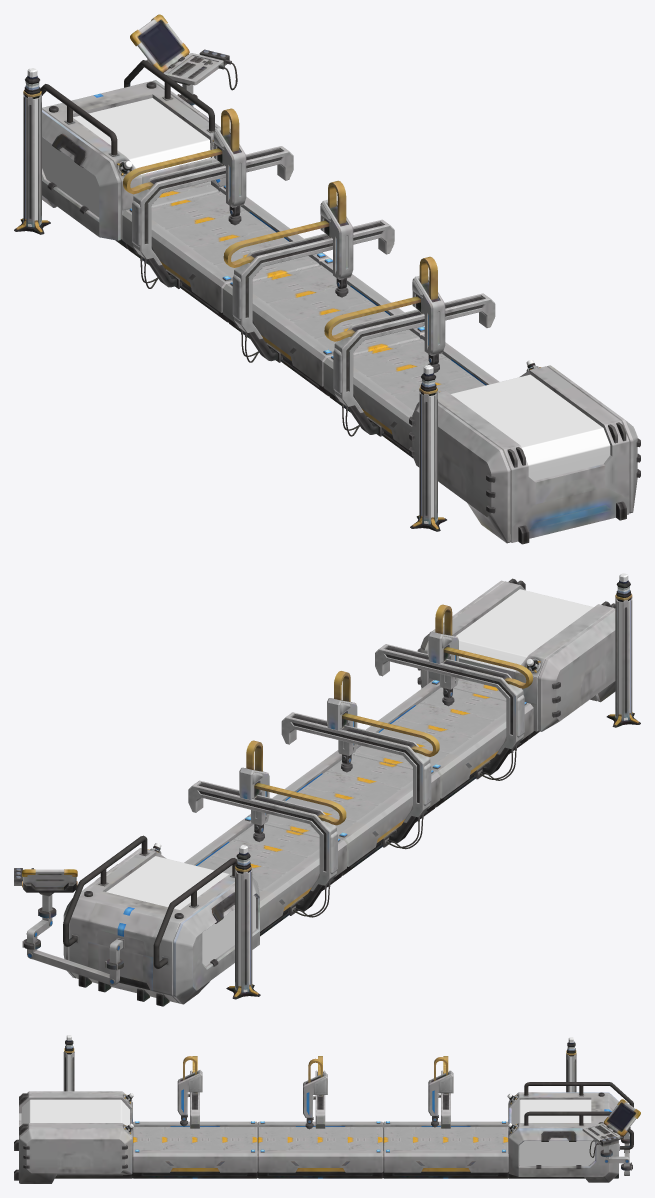
Rendered from SK_PalSphereFactoryFuturistic_5aedab.glb.
3 renders of one model, top to bottom at view 1: azimuth 30°, elevation 25°; view 2: azimuth 150°, elevation 25°; view 3: azimuth 270°, elevation 25°, orthographic. The views are drawn at different scales.
Bounding box in the file's own units: 3.55 × 2.34 × 12.5.
Materials: 5 (3 with a texture image).
